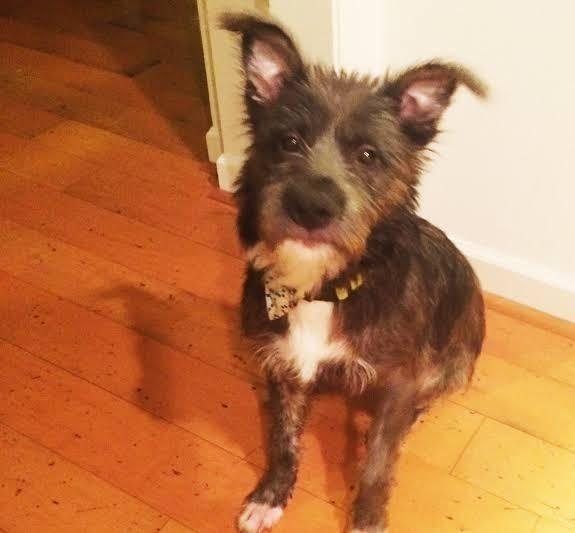adult_dog: (216, 11, 495, 533)
